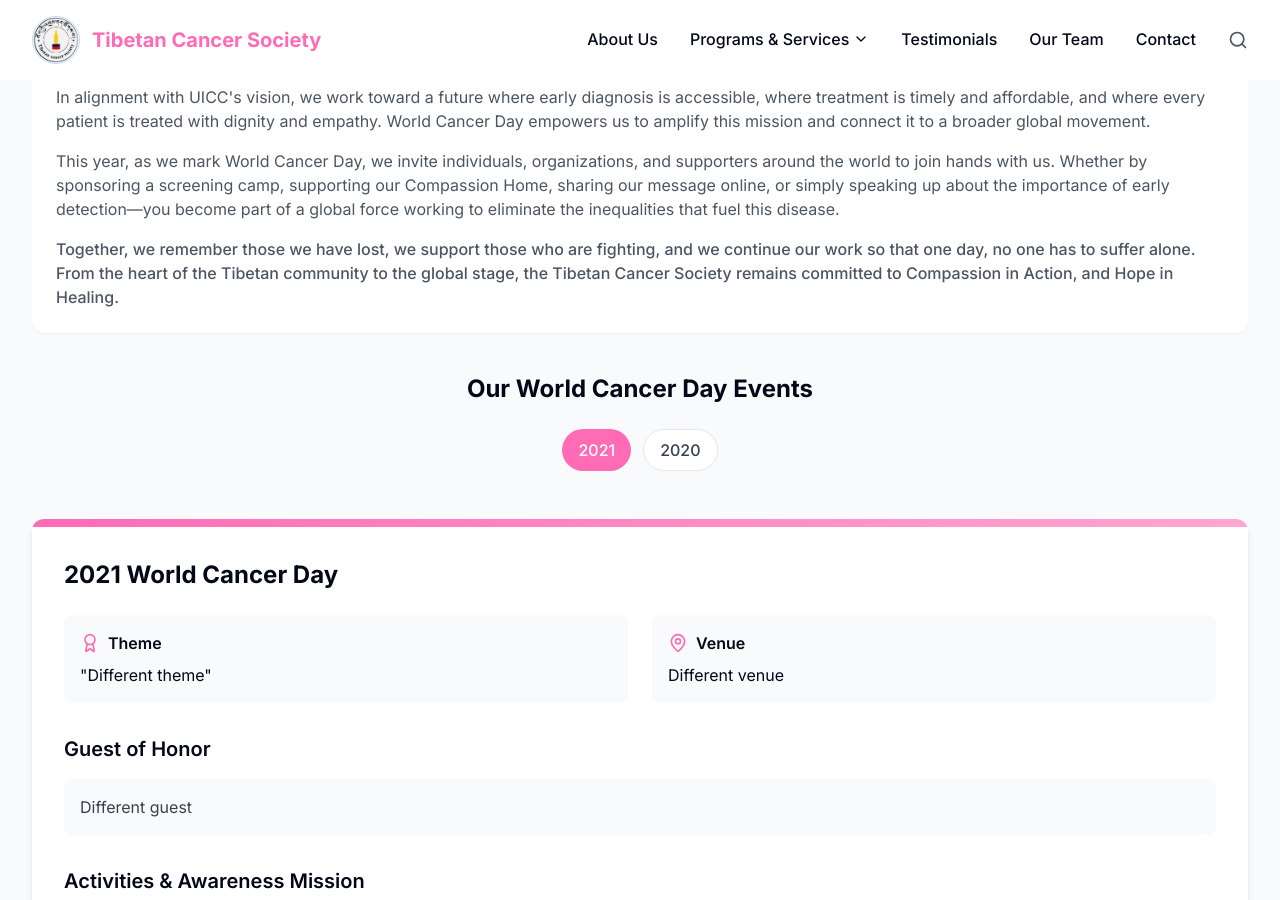
Test case: WorldCancerDay › allows switching between different years
(page scrolled)
expect the heading "2021 World Cancer Day" is shown: met, box [64, 560, 338, 589]
# Click on 2020 button
Click the button "2020" at (680, 450), box [643, 429, 718, 471]
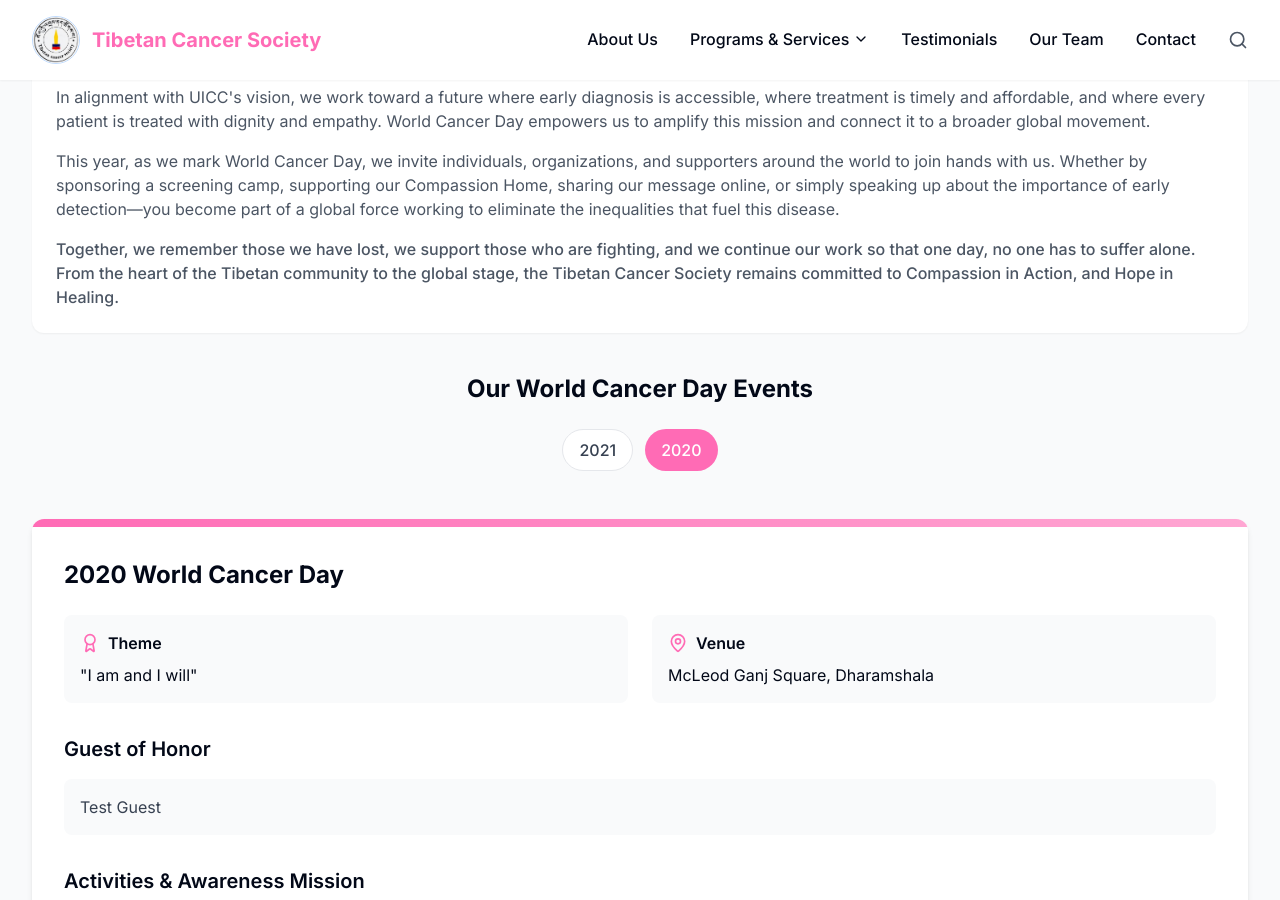
expect the heading "2020 World Cancer Day" is shown: met, box [64, 560, 344, 589]
